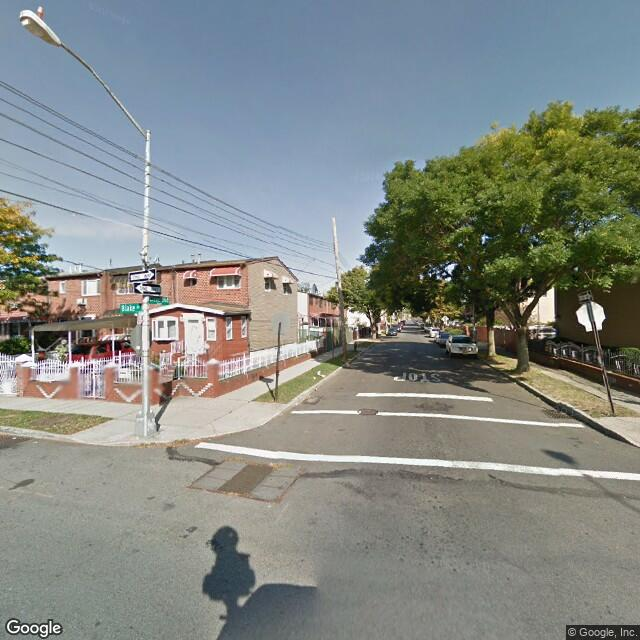litter: (316, 368, 331, 378), (31, 436, 42, 445), (12, 435, 21, 441)
